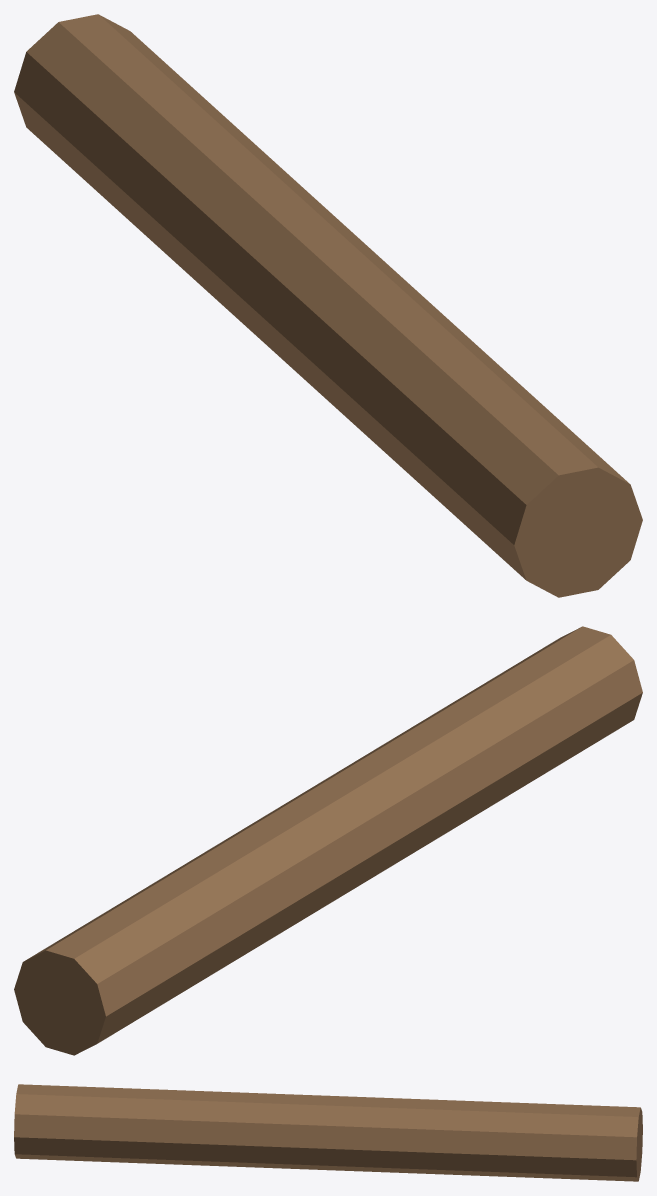
The model's file is z4_tronco_2_lev1.glb.
3 views of the same model, one above another, from view 1: azimuth 30°, elevation 25°; view 2: azimuth 150°, elevation 25°; view 3: azimuth 270°, elevation 25° (orthographic). The views are drawn at different scales.
Parts seen in each view (by area): view 1: z4_tronco_2_lev1; view 2: z4_tronco_2_lev1; view 3: z4_tronco_2_lev1.
Part boxes in pixels (x1,y1,x2,y2): z4_tronco_2_lev1: (14, 14, 642, 597); z4_tronco_2_lev1: (14, 626, 642, 1055); z4_tronco_2_lev1: (14, 1084, 642, 1181).
Bounding box in the file's own units: 0.8268 × 0.4565 × 4.03.
